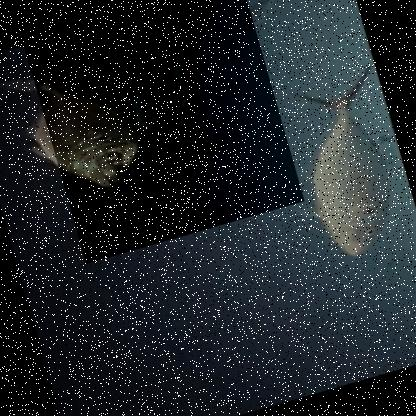white-shark: (23, 0, 306, 265)
